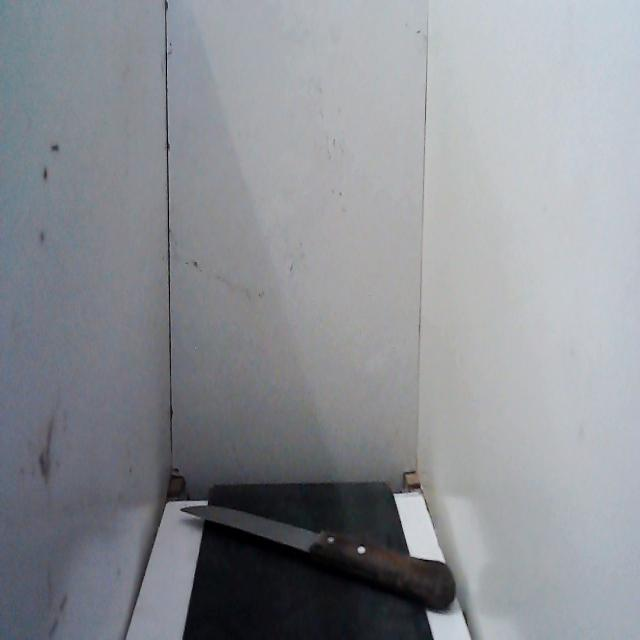metal: (179, 497, 325, 561)
